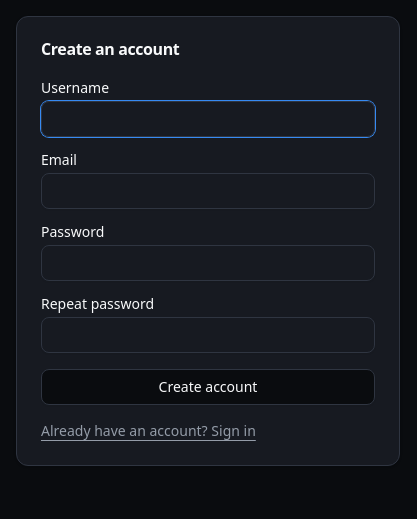
Test case: RegisterPage › shows the server error on a duplicate username
The image size is (417, 519).
In the field labelled "Username": [208, 119] box [41,101,375,137], type "taken"
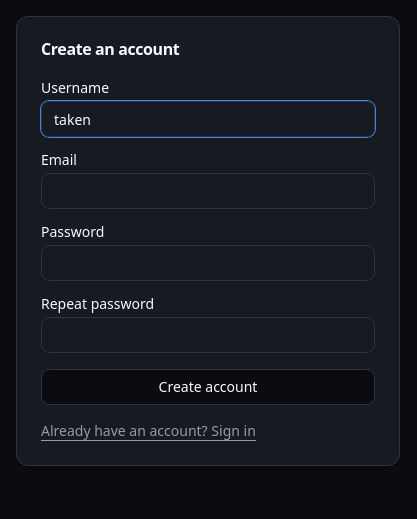
In the field labelled "Email": [208, 191] box [41,173,375,209], type "taken@example.com"
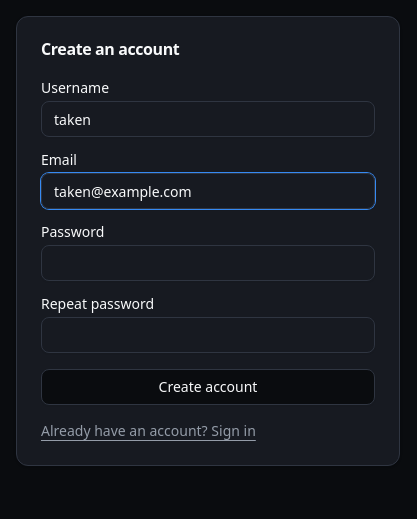
In the password field labelled "Password": [208, 263] box [41,245,375,281], type "correct-horse-1"
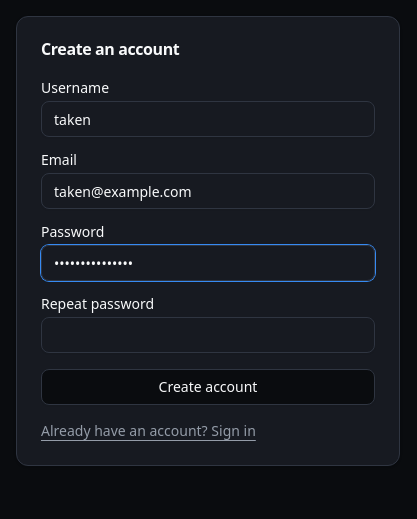
In the password field labelled "Repeat password": [208, 335] box [41,317,375,353], type "correct-horse-1"
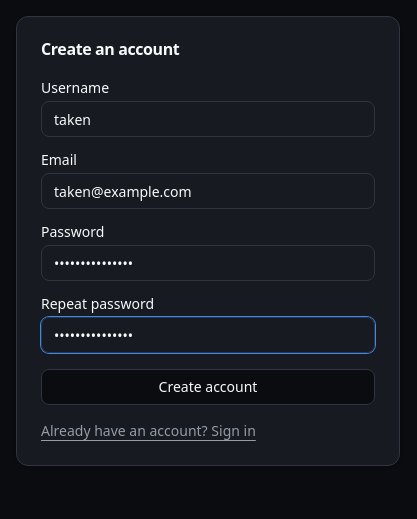
Click the button "Create account": [208, 387] box [41,369,375,405]
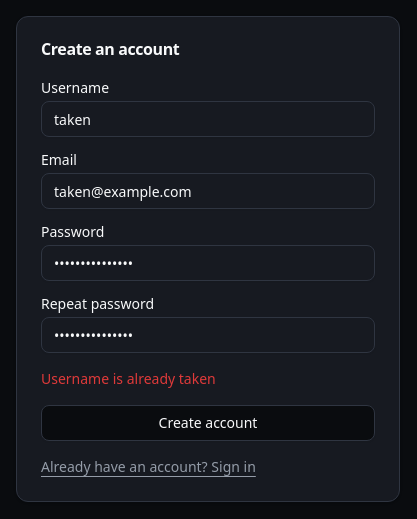
Result: the message reads "Username is already taken" at [41,369,216,388]
